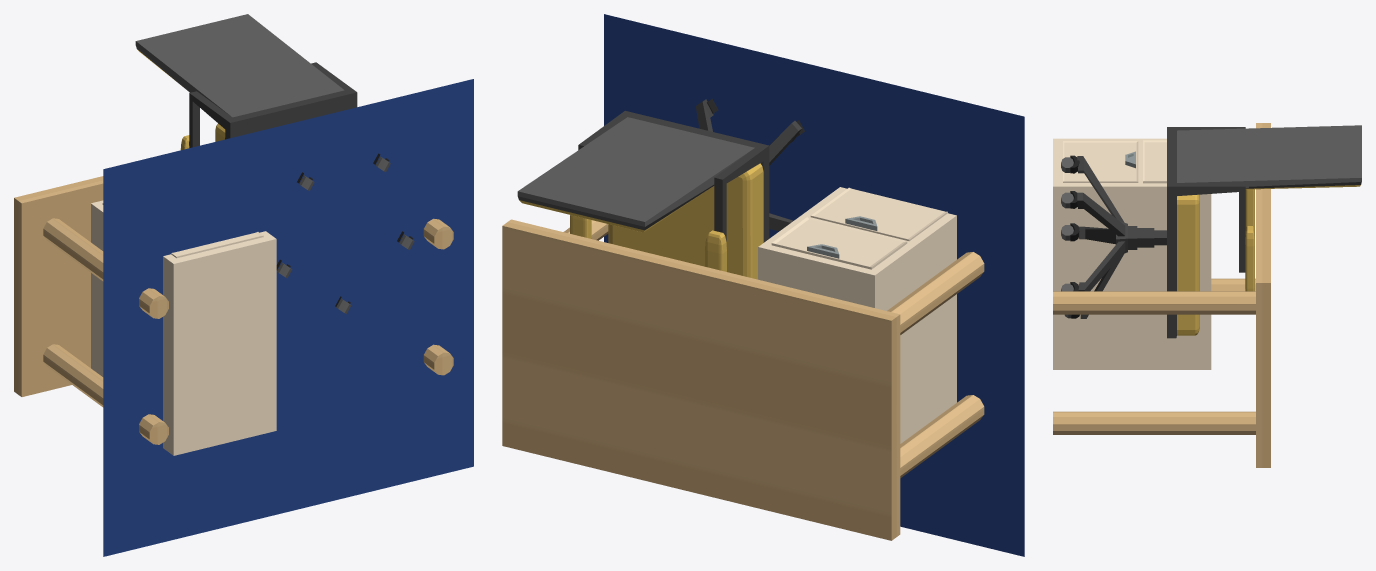
Rendered from WorkingRoom_SmallTable.fbx.
The picture shows the model from 3 angles, left to right: view 1: azimuth 30°, elevation 25°; view 2: azimuth 150°, elevation 25°; view 3: azimuth 270°, elevation 25°; orthographic projection. The views are drawn at different scales.
Visible parts, largest first — view 1: Plane.275, desk.002; view 2: desk.002, Plane.275; view 3: desk.002.
Boxes of the visible parts, <box> form: Plane.275: <box>103,79,473,556</box>; desk.002: <box>14,14,453,455</box>; desk.002: <box>502,99,984,540</box>; Plane.275: <box>604,14,1024,556</box>; desk.002: <box>1053,123,1361,467</box>.
Bounding box in the file's own units: 2 × 2 × 1.51.
